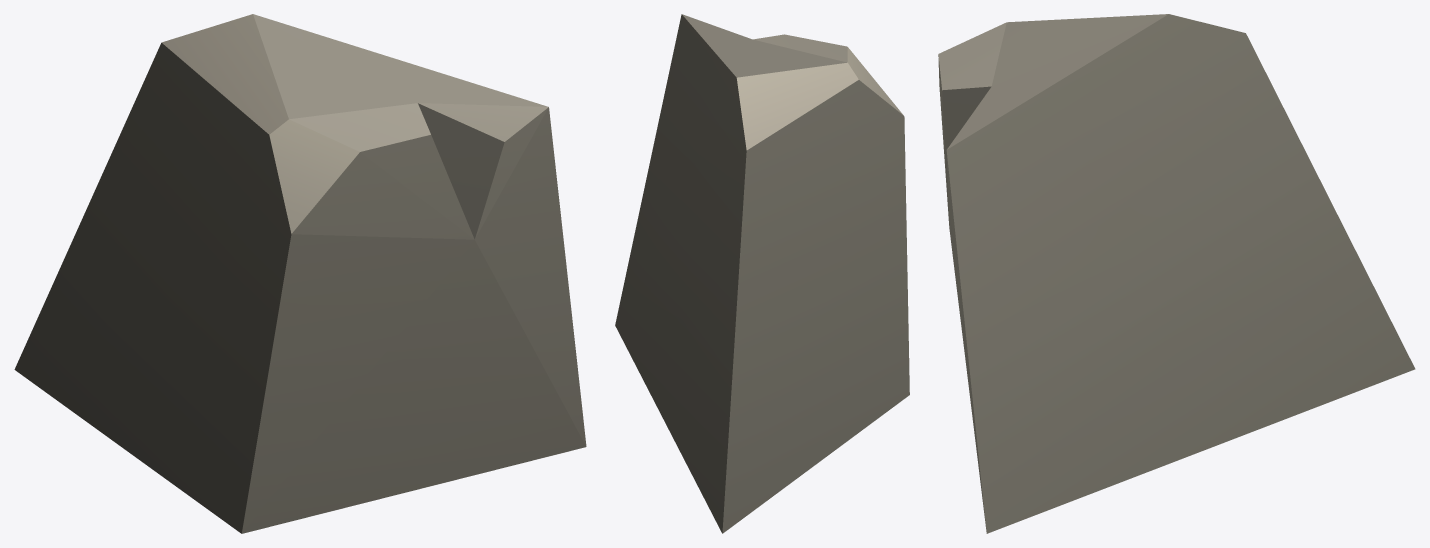
The model's file is Rock_Small_1A.fbx.
3 renders of one model, left to right at view 1: azimuth 30°, elevation 25°; view 2: azimuth 150°, elevation 25°; view 3: azimuth 270°, elevation 25°, orthographic. The views are drawn at different scales.
Parts seen in each view (by area): view 1: Rock_Small_1A; view 2: Rock_Small_1A; view 3: Rock_Small_1A.
Part boxes in pixels (bbox=[...]): Rock_Small_1A: bbox=[14, 14, 586, 533]; Rock_Small_1A: bbox=[615, 14, 909, 533]; Rock_Small_1A: bbox=[938, 14, 1415, 533].
Size of the model in its own units: 0.7891 by 0.9099 by 0.9659.
